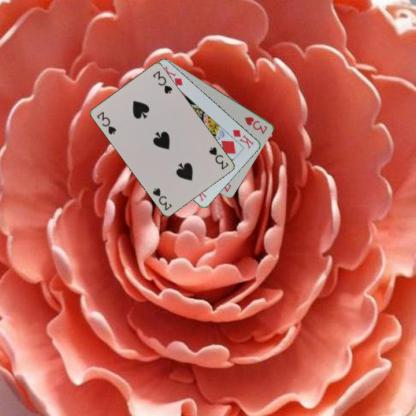3h: (242, 114, 269, 135)
3s: (206, 144, 230, 171), (94, 109, 118, 136)
Kd: (230, 127, 255, 150)
